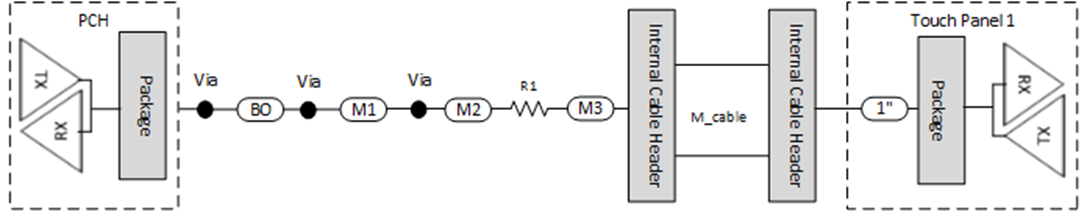circle: (191, 98, 219, 123), (297, 98, 319, 123), (409, 96, 429, 122)
dotted_rectangle: (837, 1, 1086, 210), (1, 1, 183, 210)
oval: (855, 90, 915, 127), (234, 93, 287, 128), (441, 92, 493, 126), (564, 93, 619, 125), (337, 94, 393, 123)
rectangle: (761, 5, 822, 205), (623, 2, 681, 209), (110, 25, 171, 183), (911, 34, 970, 188)
resistor: (509, 96, 552, 122)
triangle: (995, 38, 1067, 127), (15, 87, 88, 173), (1003, 90, 1069, 180), (17, 34, 83, 121)
